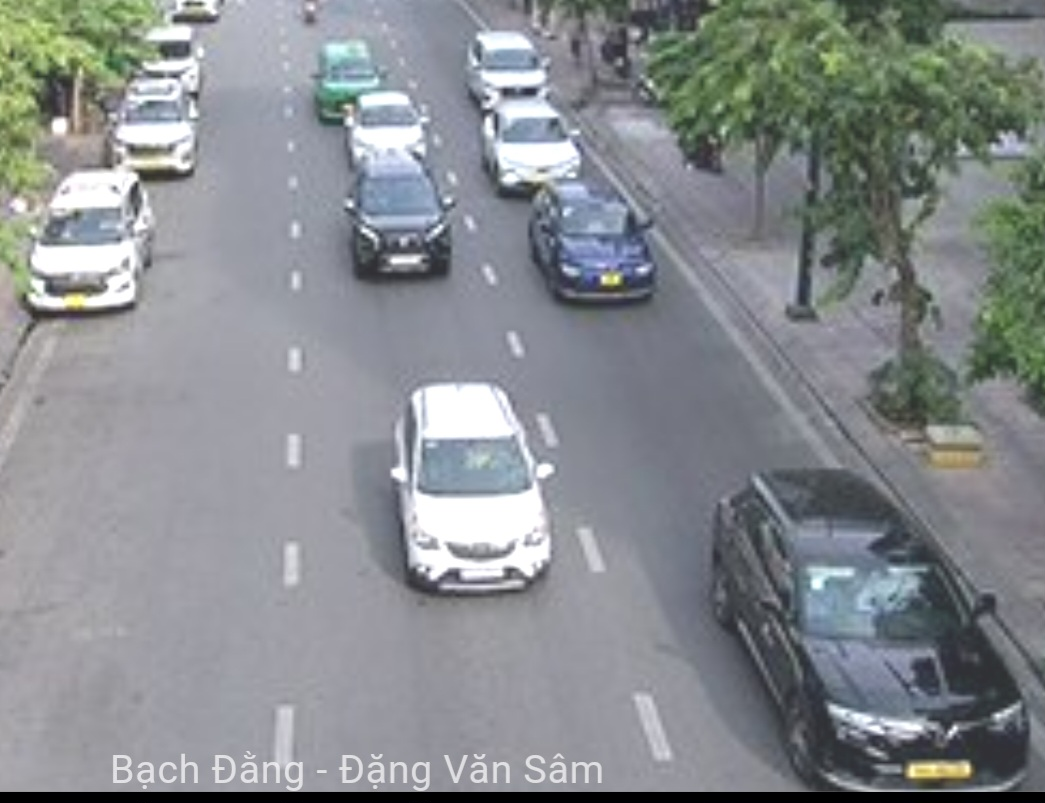car: (695, 472, 1033, 793), (393, 372, 558, 600), (18, 171, 155, 319), (531, 186, 656, 304), (348, 163, 453, 282), (113, 79, 200, 181), (481, 106, 580, 190), (465, 33, 553, 103), (344, 96, 424, 162), (316, 44, 381, 120), (129, 29, 206, 86)
